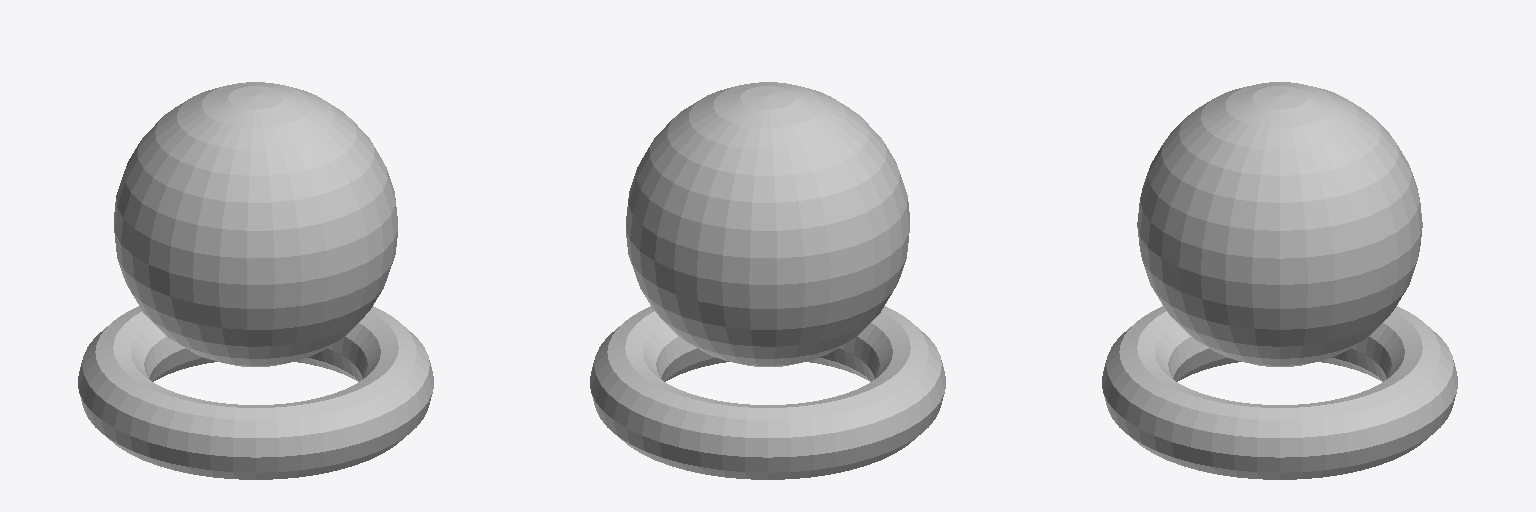
Rendered from PowerUp.obj.
3 renders of one model, left to right at view 1: azimuth 30°, elevation 25°; view 2: azimuth 150°, elevation 25°; view 3: azimuth 270°, elevation 25°, orthographic.
Parts seen in each view (by area): view 1: Sphere, Torus; view 2: Sphere, Torus; view 3: Sphere, Torus.
Boxes of the visible parts, x1,y1,x2,y2 form: Sphere: [114, 82, 397, 366]; Torus: [78, 306, 433, 479]; Sphere: [626, 82, 909, 366]; Torus: [590, 306, 945, 479]; Sphere: [1137, 82, 1422, 366]; Torus: [1102, 306, 1457, 479].
Bounding box in the file's own units: 1.88 × 1.86 × 1.88.